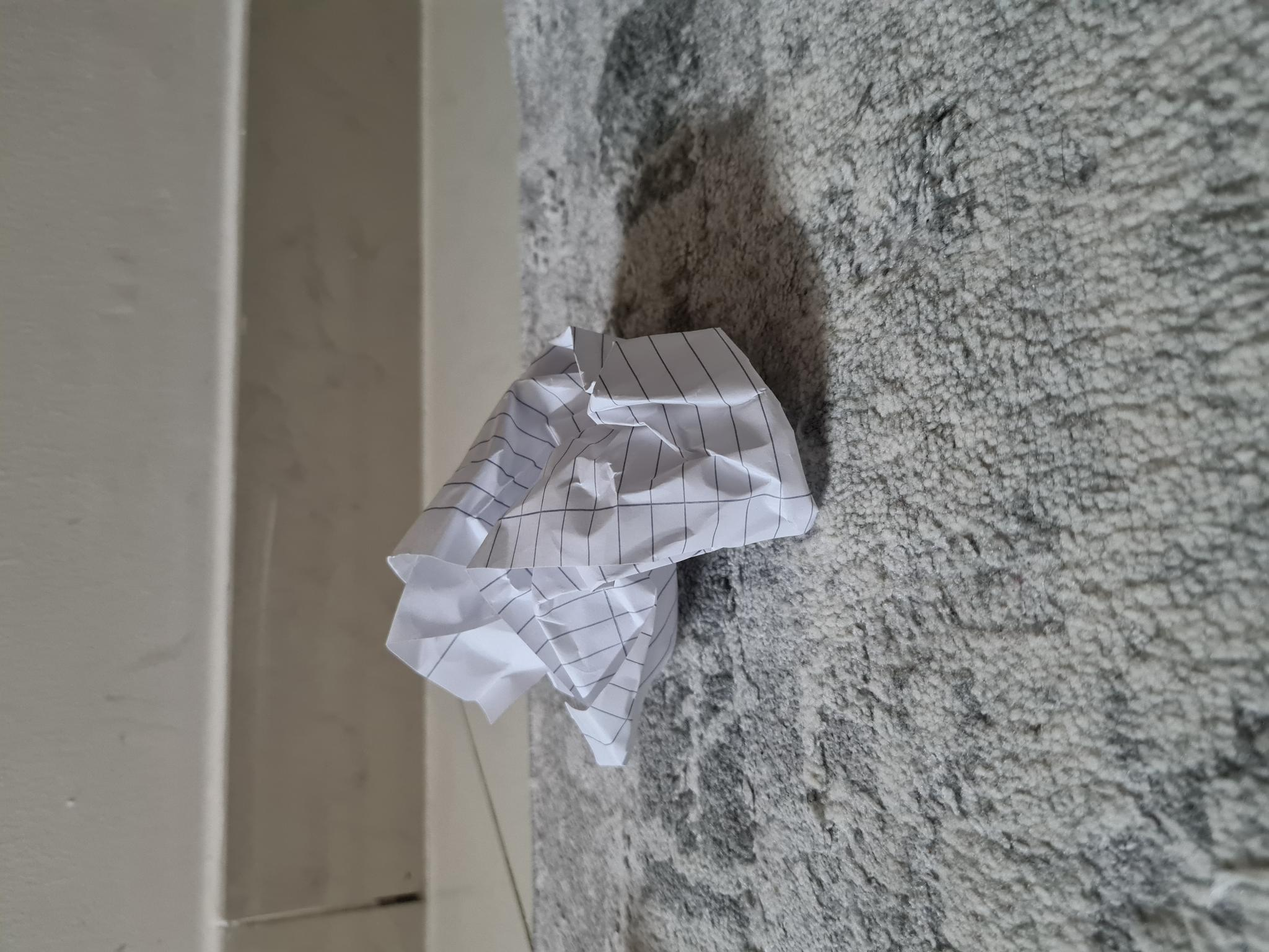Kertas: (195, 472, 626, 768)
